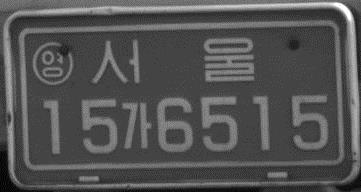1: (250, 91, 275, 152), (39, 97, 65, 155)
5: (198, 92, 239, 152), (289, 90, 329, 150), (79, 97, 120, 155)
6: (155, 93, 193, 156)
가: (119, 98, 152, 151)
서울_D: (86, 34, 257, 87)
영: (31, 40, 75, 86)
